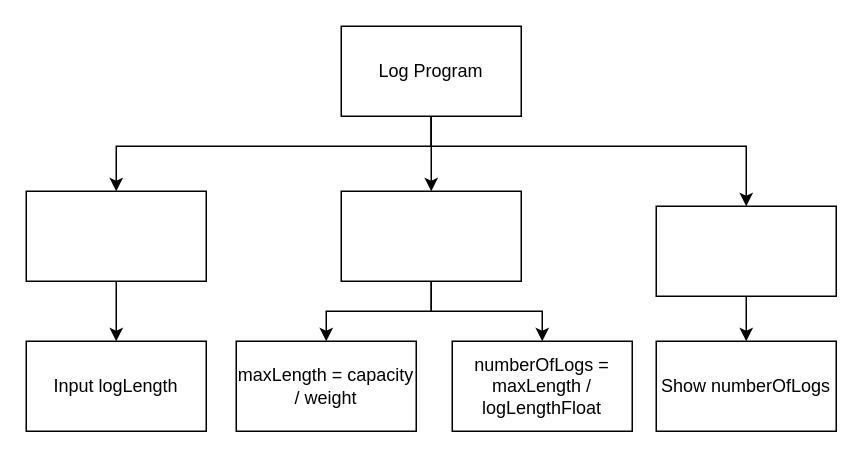
Image size: 863x458. Some labels were removed from this diagram. Here are the shapes that lost their labels. From the top down, the box of each, then its label:
(25, 190, 206, 281): Input
(340, 190, 521, 281): Process
(655, 205, 836, 296): Output
